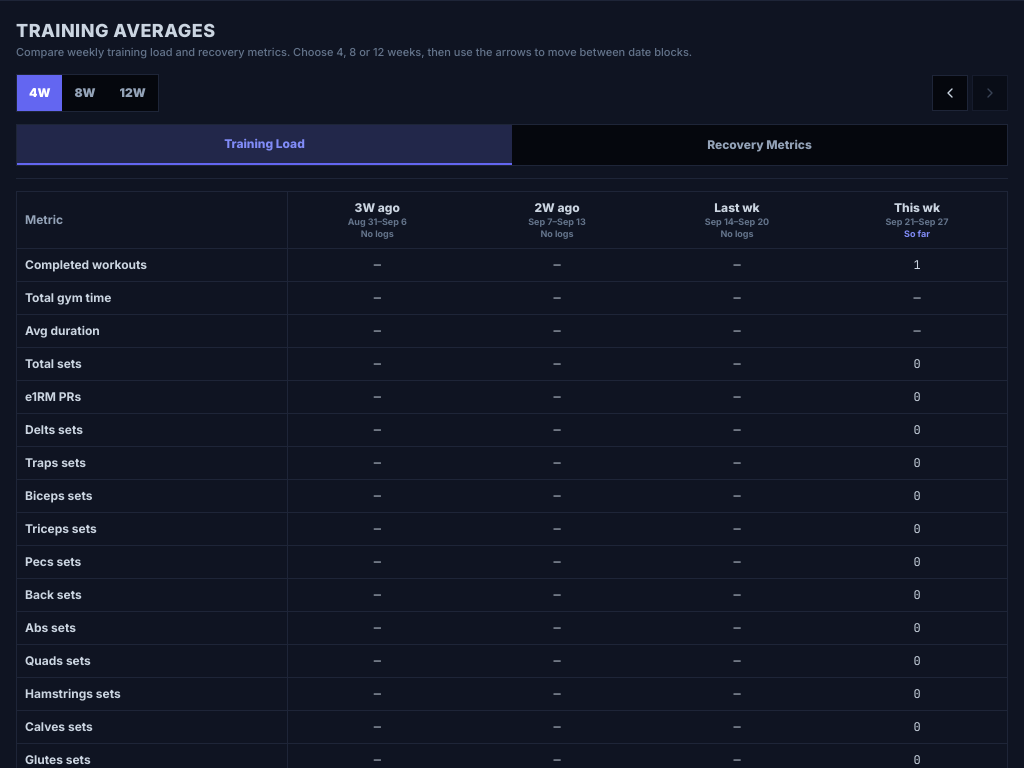
Test: TrainingAverages presentation › shows hydration as a category with its sample count but no ordinal mean
This screenshot has width=1024, height=768.
Click the tab "Recovery Metrics".
click(760, 145)  # box [512, 125, 1007, 165]
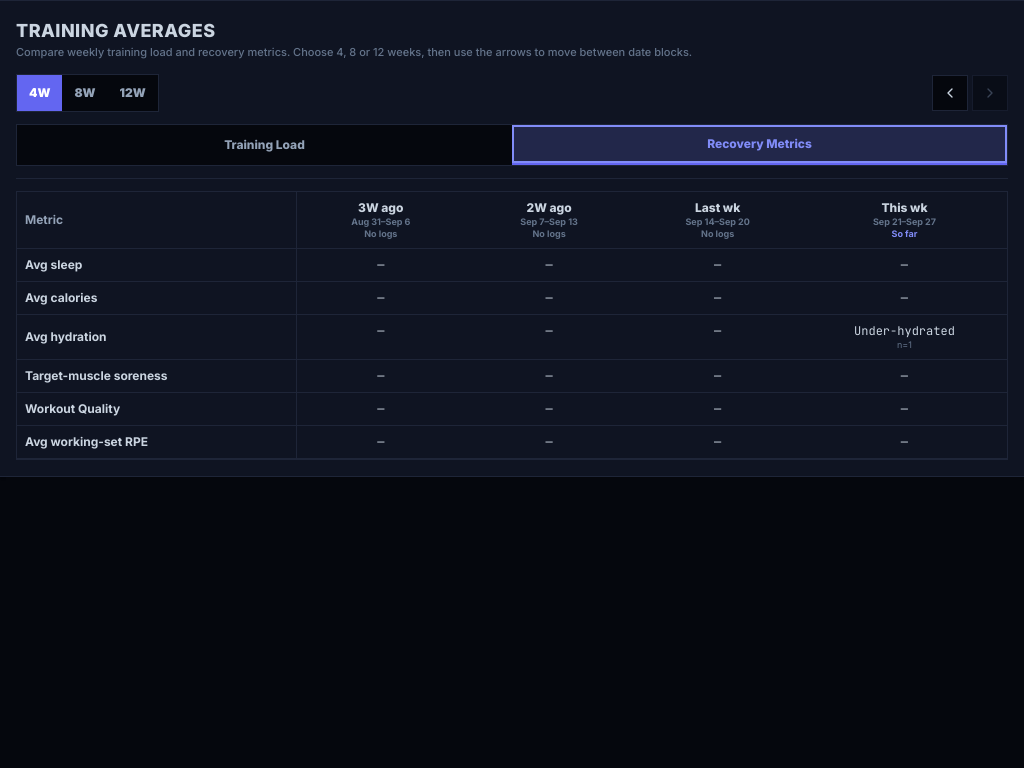
Result: the row "Avg hydration — — — Under-hydrated n=1" is shown at [17, 314, 1007, 359]
